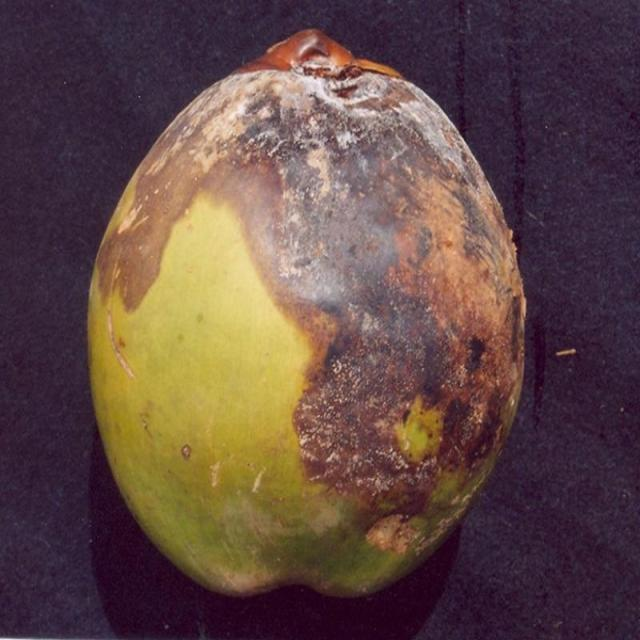damaged: (86, 30, 529, 604)
